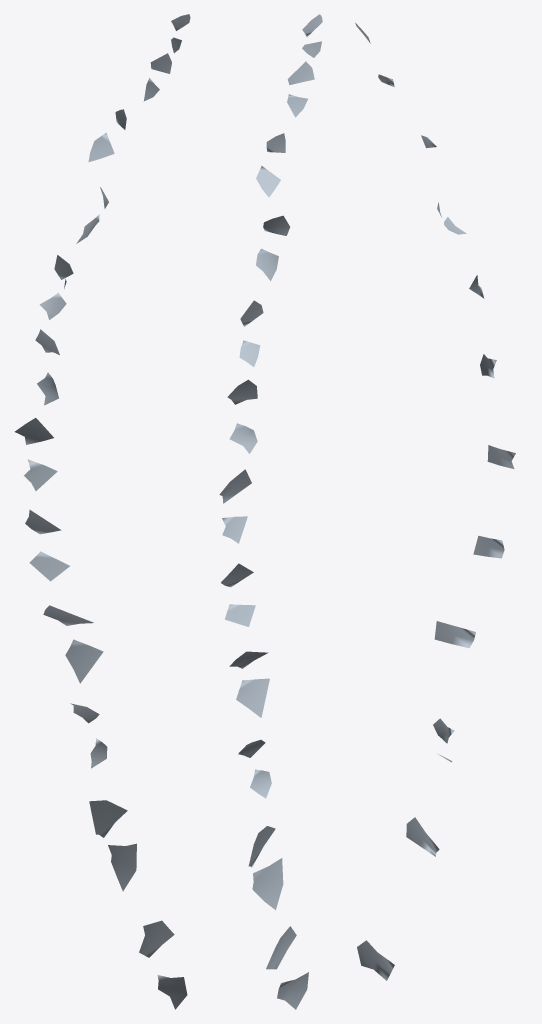
Rendered from radiate-ligament-of-head-of-rib-l.glb.
3 renders of one model, left to right at view 1: azimuth 90°, elevation 25°; view 2: azimuth 150°, elevation 25°; view 3: azimuth 270°, elevation 25°, orthographic.
Visible parts, largest first — view 1: Radiate ligament of head of rib.l; view 2: Radiate ligament of head of rib.l; view 3: Radiate ligament of head of rib.l.
Boxes of the visible parts, x1,y1,x2,y2 form: Radiate ligament of head of rib.l: [14, 14, 190, 1009]; Radiate ligament of head of rib.l: [219, 14, 322, 1009]; Radiate ligament of head of rib.l: [355, 22, 515, 980].
Size of the model in its own units: 0.0126 by 0.3048 by 0.0484.
